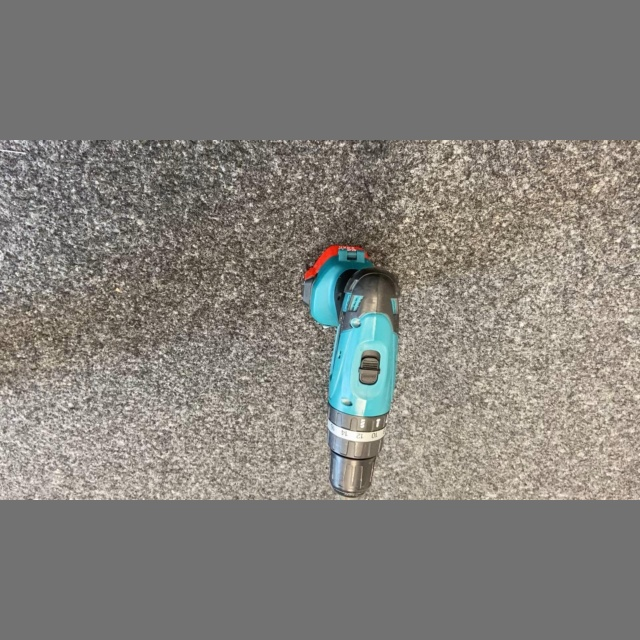drill: (296, 243, 408, 500)
